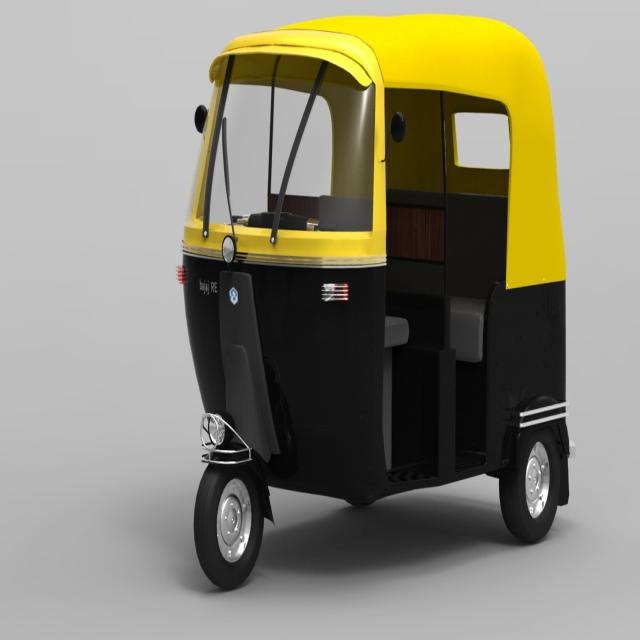autorickshaw: (180, 16, 570, 589)
